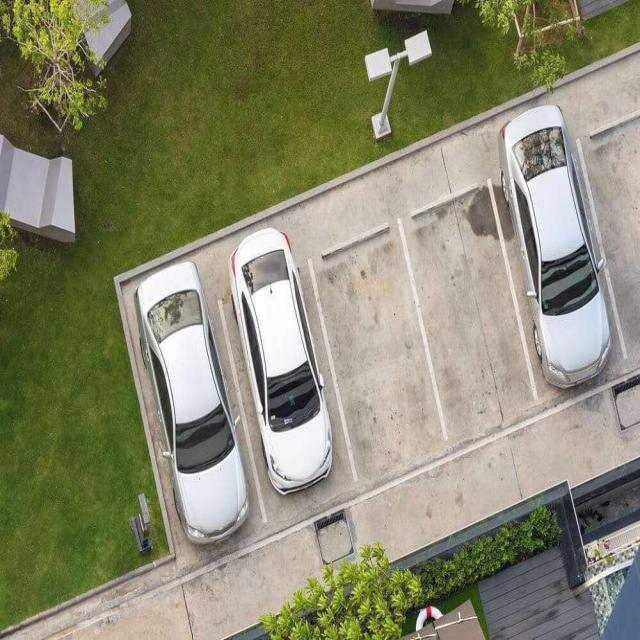libre: (297, 128, 542, 497), (579, 53, 639, 370)
ocupado: (109, 204, 361, 580), (485, 81, 636, 412)
